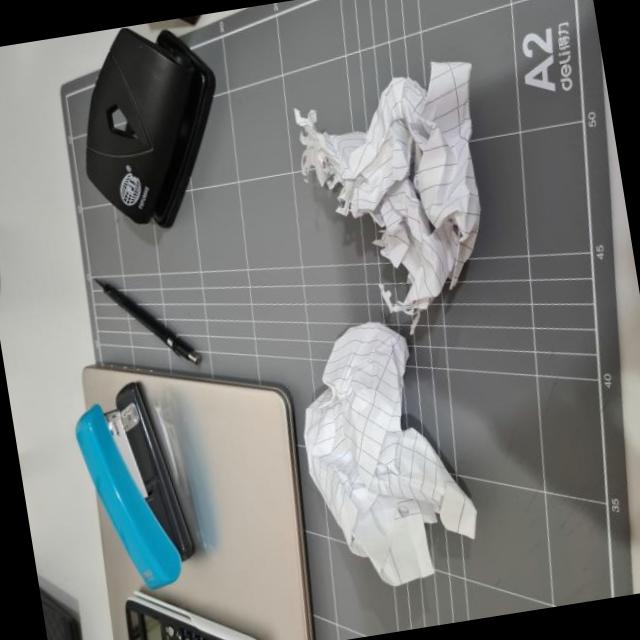cardboard paper: (290, 61, 481, 339), (300, 323, 477, 590), (91, 279, 200, 369)
